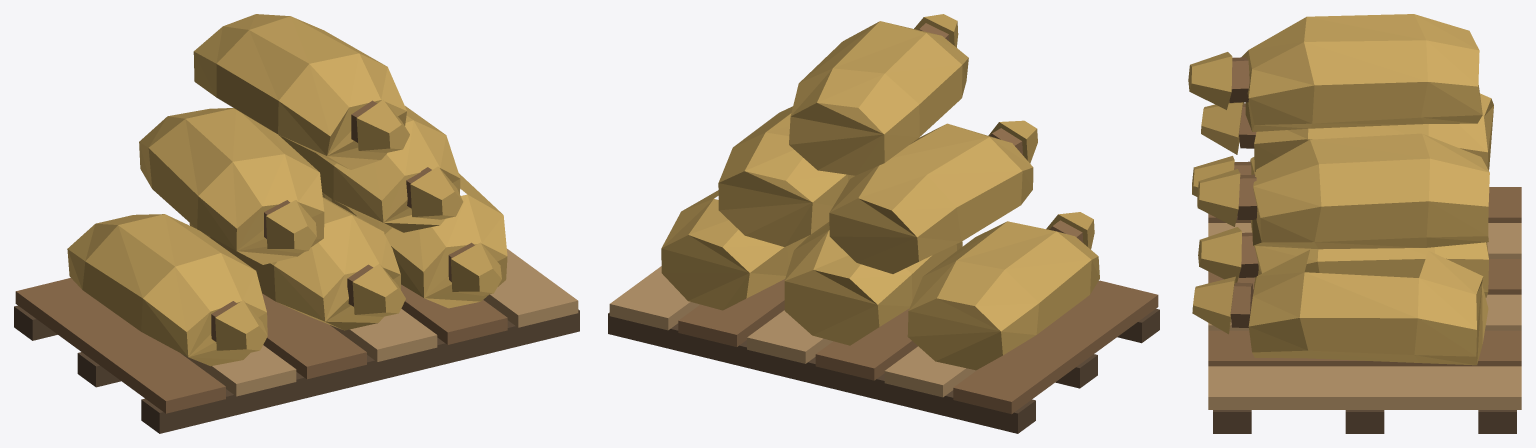
The model's file is quay-stack-grain.glb.
The picture shows the model from 3 angles, left to right: view 1: azimuth 30°, elevation 25°; view 2: azimuth 150°, elevation 25°; view 3: azimuth 270°, elevation 25°; orthographic projection. The views are drawn at different scales.
Parts seen in each view (by area): view 1: quay-stack-grain; view 2: quay-stack-grain; view 3: quay-stack-grain.
Part boxes in pixels (left/top/right/bottom): quay-stack-grain: left=14, top=14, right=579, bottom=433; quay-stack-grain: left=608, top=14, right=1159, bottom=433; quay-stack-grain: left=1188, top=14, right=1521, bottom=433.
Bounding box in the file's own units: 2.1 × 1.38 × 1.38.
Materials: 1 (1 with a texture image).
